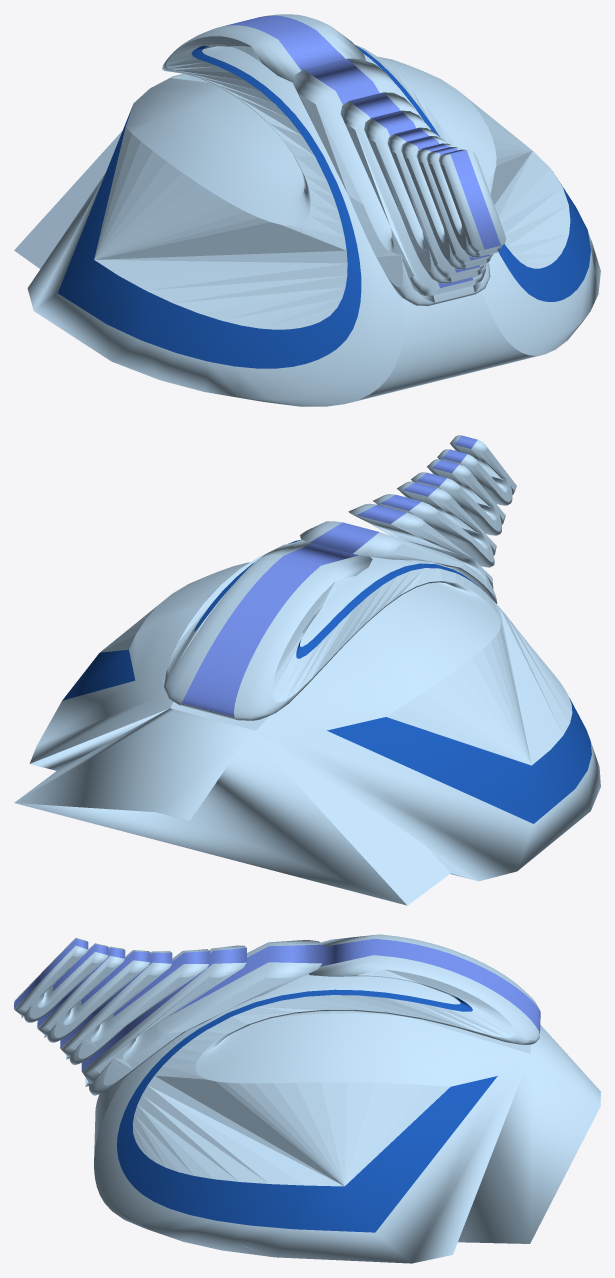
The model's file is enemies1.fbx.
3 views of the same model, one above another, from view 1: azimuth 30°, elevation 25°; view 2: azimuth 150°, elevation 25°; view 3: azimuth 270°, elevation 25° (orthographic). The views are drawn at different scales.
Parts seen in each view (by area): view 1: Text; view 2: Text; view 3: Text.
Boxes of the visible parts, x1=… form: Text: x1=14, y1=14, x2=600, y2=406; Text: x1=14, y1=435, x2=600, y2=905; Text: x1=14, y1=934, x2=600, y2=1263.
Bounding box in the file's own units: 165 × 79.17 × 191.
